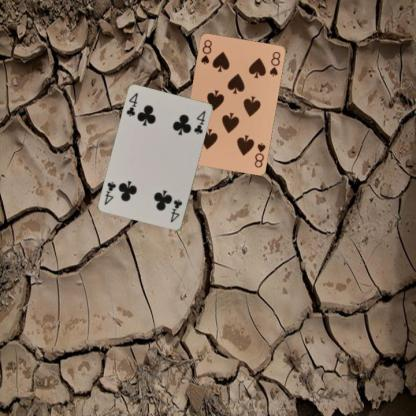4c: (168, 196, 183, 224), (124, 90, 139, 118)
8s: (198, 37, 213, 65), (252, 140, 266, 169)
